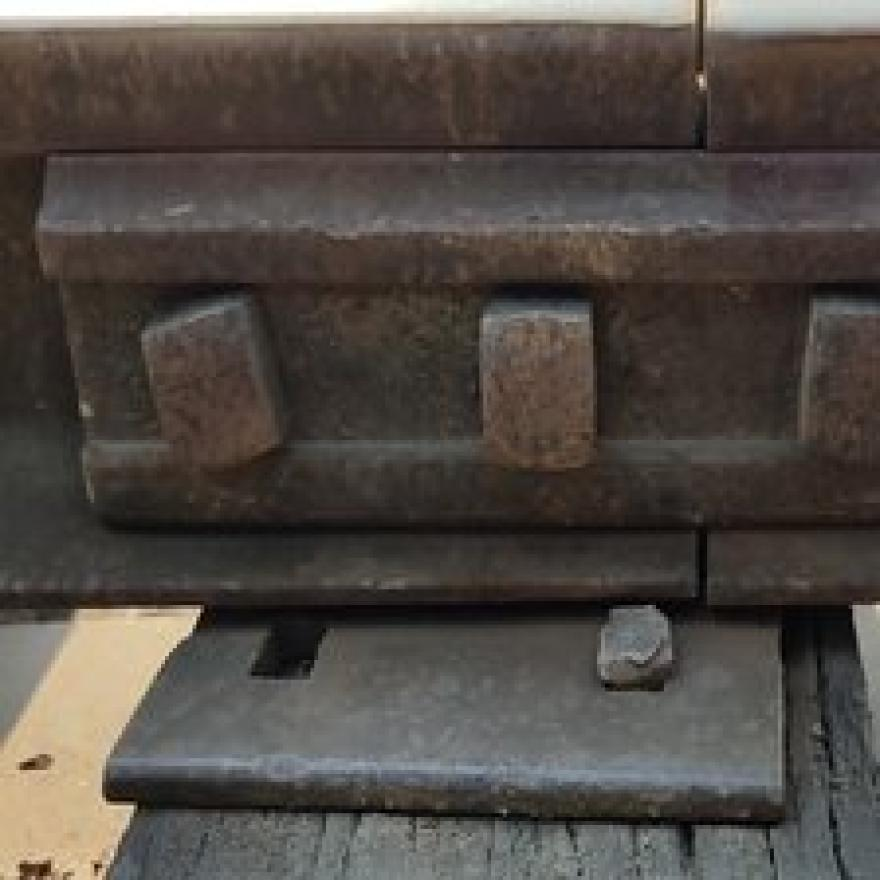railway-gap: (599, 0, 806, 176), (644, 513, 760, 629)
